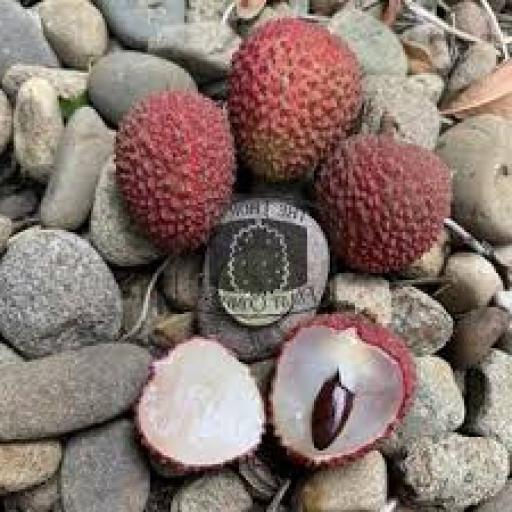lychee: (269, 309, 414, 469), (318, 114, 450, 280), (230, 20, 362, 184), (114, 91, 234, 250), (136, 334, 262, 474)
